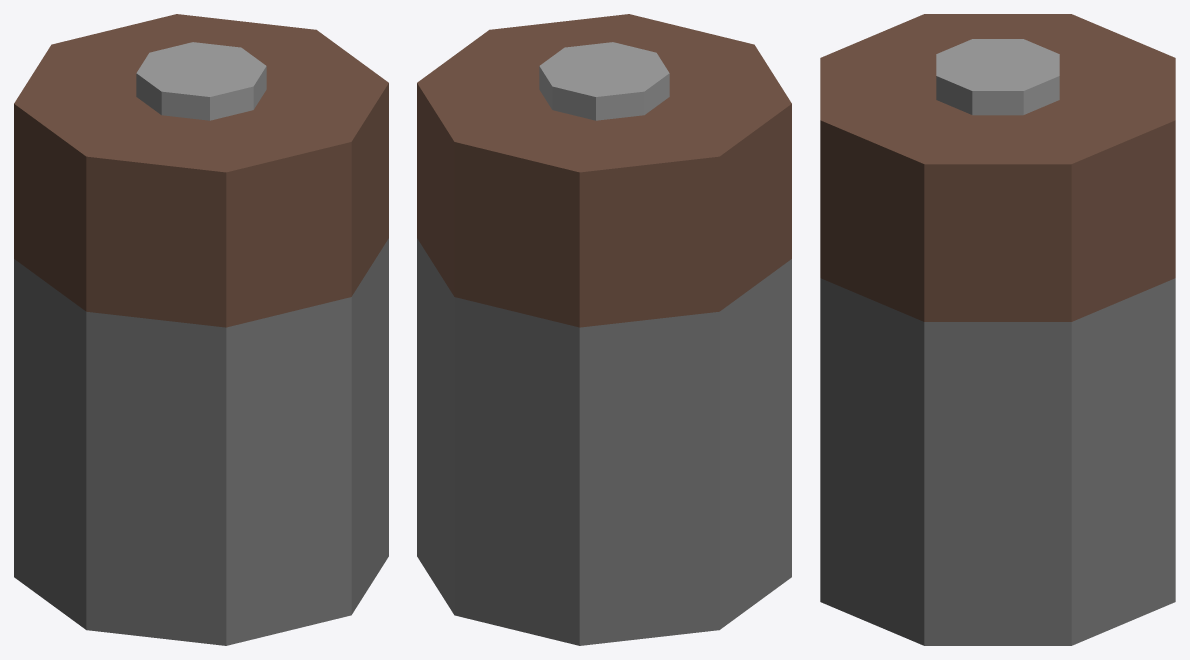
Rendered from Battery_01.fbx.
The picture shows the model from 3 angles, left to right: view 1: azimuth 30°, elevation 25°; view 2: azimuth 150°, elevation 25°; view 3: azimuth 270°, elevation 25°; orthographic projection.
Visible parts, largest first — view 1: Battery_01; view 2: Battery_01; view 3: Battery_01.
Part boxes in pixels (x1,y1,x2,y2): Battery_01: (14,14,388,645); Battery_01: (417,14,791,645); Battery_01: (820,14,1175,645).
Bounding box in the file's own units: 3.32 × 5.21 × 3.32.
